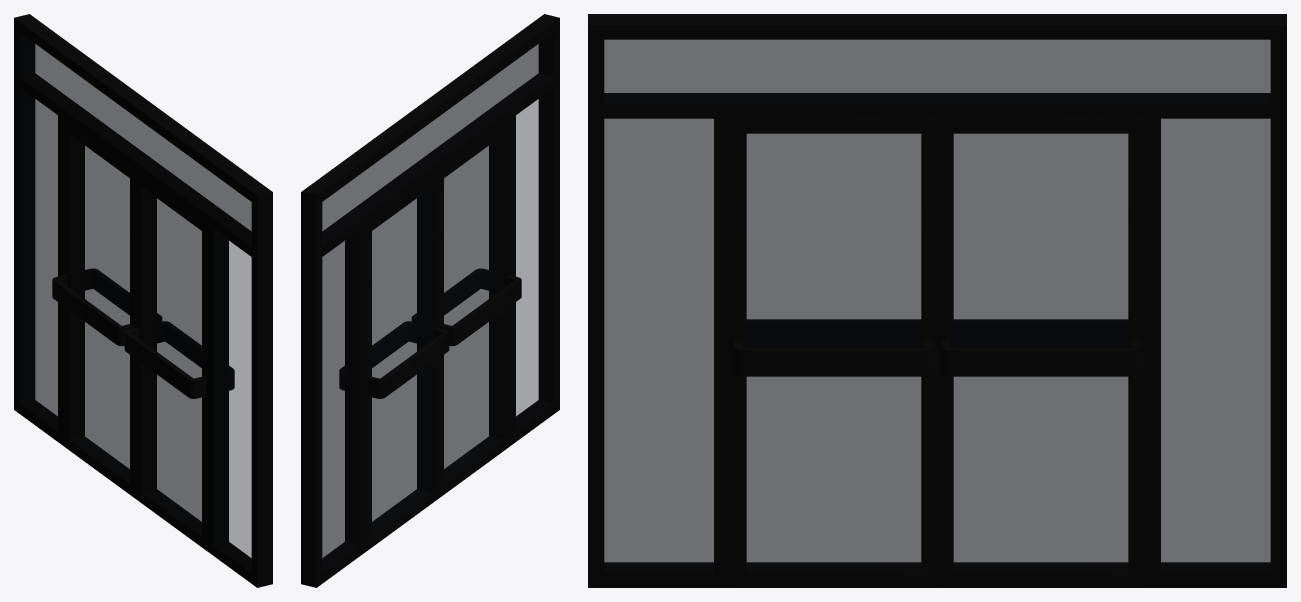
File: EntranceDoor.fbx
3 views of the same model, side by side, from view 1: azimuth 30°, elevation 25°; view 2: azimuth 150°, elevation 25°; view 3: azimuth 270°, elevation 25° (orthographic). The views are drawn at different scales.
Parts seen in each view (by area): view 1: SM_EntranceDoorStand, SM_EntranceDoor.001, SM_EntranceDoor; view 2: SM_EntranceDoorStand, SM_EntranceDoor, SM_EntranceDoor.001; view 3: SM_EntranceDoorStand, SM_EntranceDoor.001, SM_EntranceDoor.
Boxes of the visible parts, x1=… form: SM_EntranceDoorStand: x1=14, y1=14, x2=272, y2=587; SM_EntranceDoor.001: x1=124, y1=172, x2=234, y2=551; SM_EntranceDoor: x1=52, y1=120, x2=161, y2=498; SM_EntranceDoorStand: x1=301, y1=14, x2=559, y2=587; SM_EntranceDoor: x1=339, y1=172, x2=449, y2=551; SM_EntranceDoor.001: x1=412, y1=120, x2=521, y2=498; SM_EntranceDoorStand: x1=588, y1=14, x2=1286, y2=587; SM_EntranceDoor.001: x1=730, y1=118, x2=937, y2=587; SM_EntranceDoor: x1=937, y1=118, x2=1144, y2=587.
Size of the model in its own units: 28.71 by 240 by 270.
